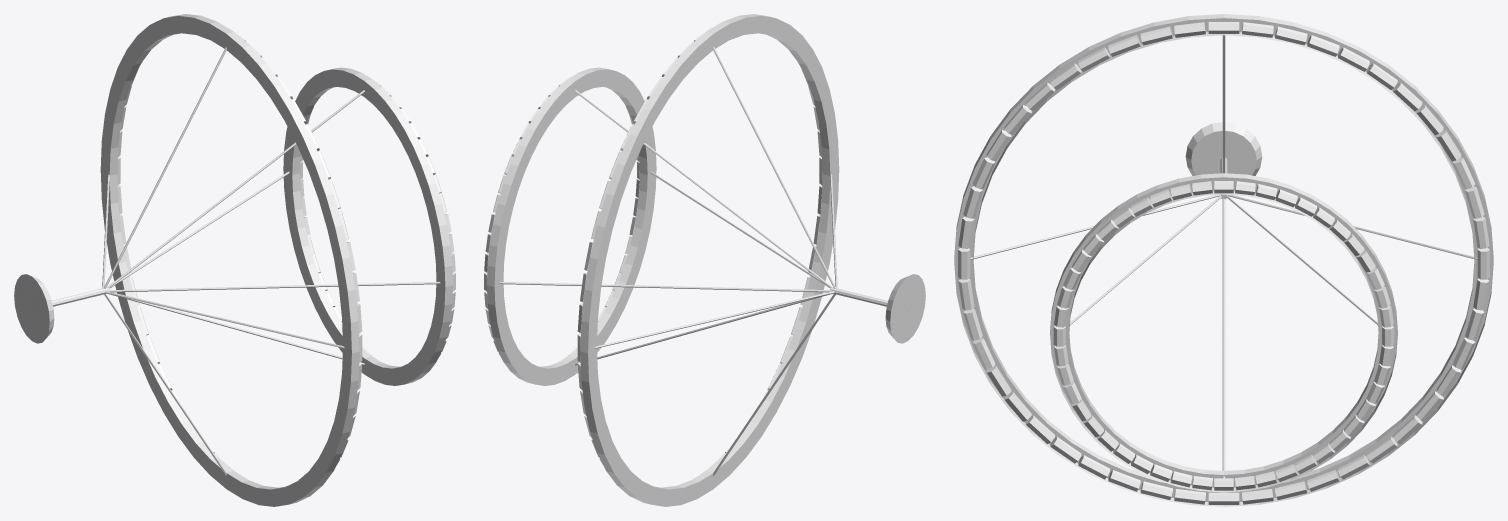
File: grandhalochandelier.obj
3 views of the same model, side by side, from view 1: azimuth 30°, elevation 25°; view 2: azimuth 150°, elevation 25°; view 3: azimuth 270°, elevation 25° (orthographic). The views are drawn at different scales.
Visible parts, largest first — view 1: Metal, Base, Light1, Light5; view 2: Metal, Base, Light6, Light2; view 3: Metal, Base, Light4, Light3, Light7, Light0, Light1, Light6, Light5, Light2, Light8, Light15 (+6 smaller).
Part boxes in pixels (bbox=[...]): Metal: bbox=[52, 14, 452, 506]; Base: bbox=[14, 274, 54, 343]; Light1: bbox=[318, 151, 362, 332]; Light5: bbox=[117, 185, 159, 363]; Metal: bbox=[487, 14, 887, 506]; Base: bbox=[885, 274, 925, 343]; Light6: bbox=[577, 180, 610, 362]; Light2: bbox=[791, 157, 822, 335]; Metal: bbox=[954, 14, 1493, 506]; Base: bbox=[1185, 122, 1262, 175]; Light4: bbox=[1208, 437, 1397, 504]; Light3: bbox=[1025, 415, 1205, 504]; Light7: bbox=[1242, 22, 1422, 111]; Light0: bbox=[1050, 22, 1239, 89]; Light1: bbox=[958, 82, 1054, 248]; Light6: bbox=[1416, 105, 1489, 279]; Light5: bbox=[1393, 278, 1489, 443]; Light2: bbox=[958, 247, 1031, 421]; Light8: bbox=[1113, 181, 1233, 227]; Light15: bbox=[1235, 181, 1350, 241].
Bounding box in the file's own units: 3.14 × 3.94 × 3.94.
